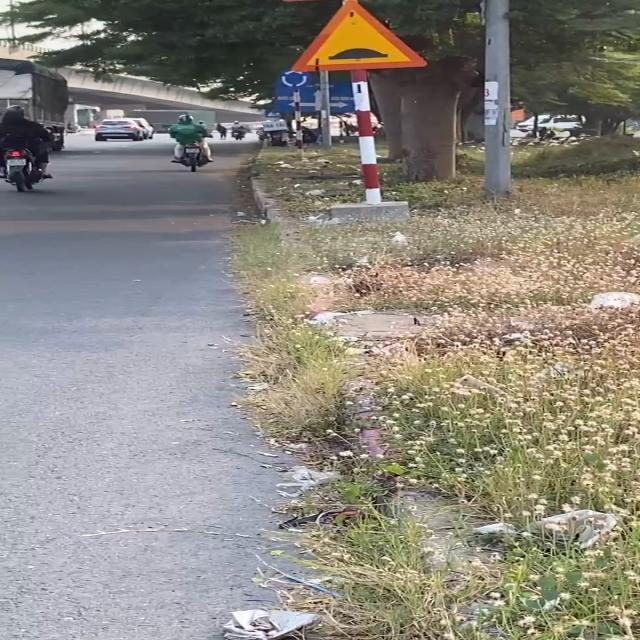221-duong-go-ghe: (290, 0, 428, 76)
303-noi-giao-nhau-chay-theo-vong-xuyen: (278, 68, 310, 88)
